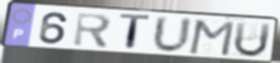6: (38, 11, 69, 46)
M: (187, 19, 237, 58)
R: (71, 12, 114, 51)
T: (118, 13, 153, 54)
U: (150, 15, 194, 55), (231, 21, 273, 59)
